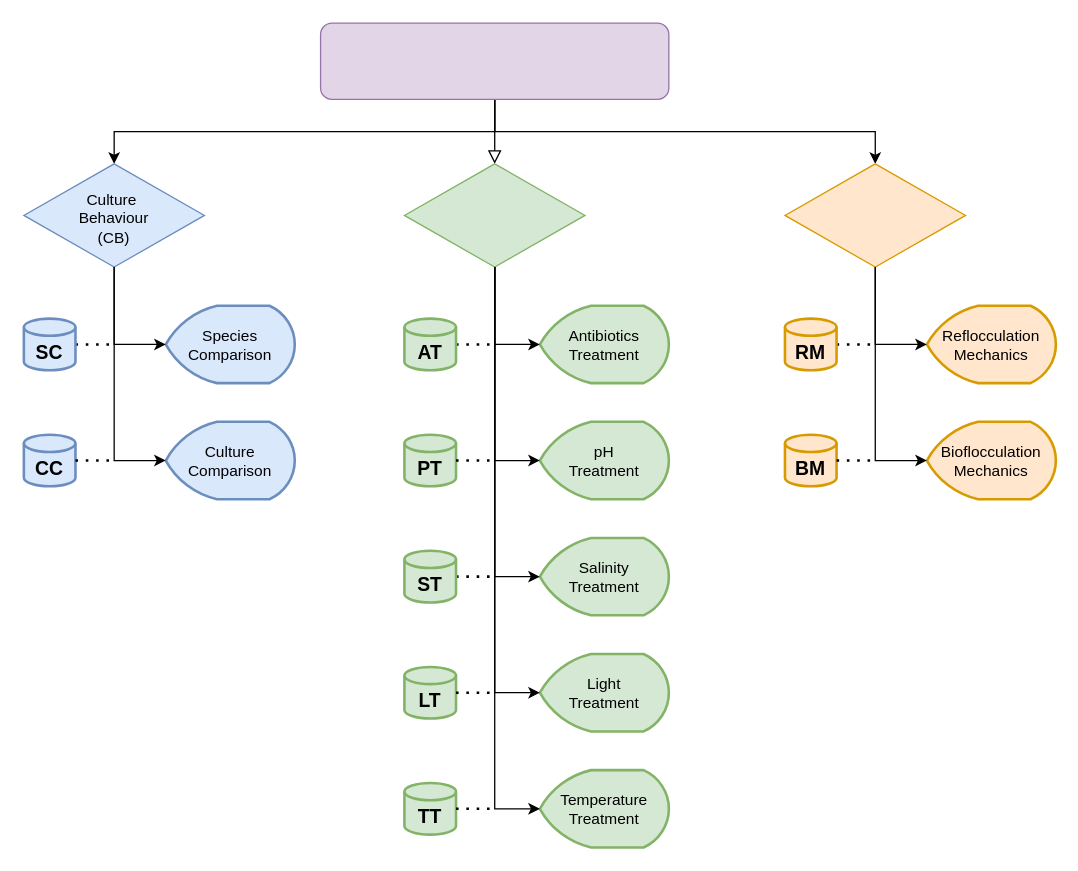
The diagram is 1078 pixels wide and 871 high, and some of its shapes have lost their labels. Here are the shapes that lost their labels. From the top down, the box of each, then its label:
(319, 22, 669, 99): PhD Experiments
(403, 163, 585, 267): Physiology Manipulation (PM)
(784, 163, 966, 267): Flocculation Mechanics (FM)
